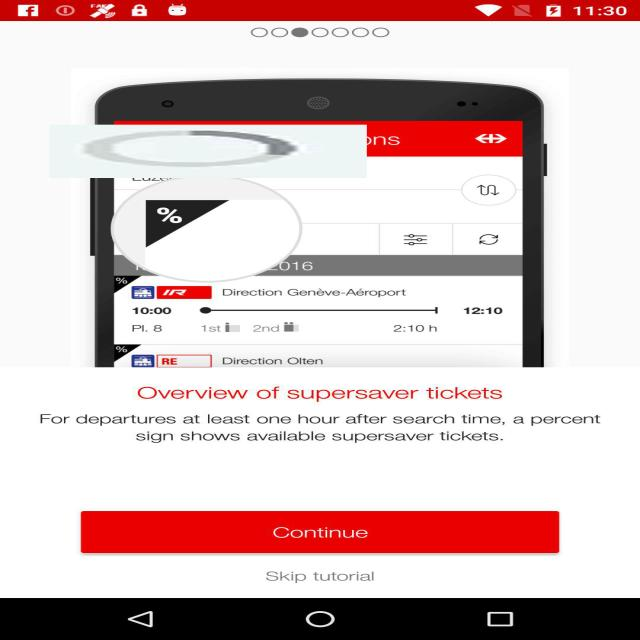misdirection: (49, 125, 367, 178)
